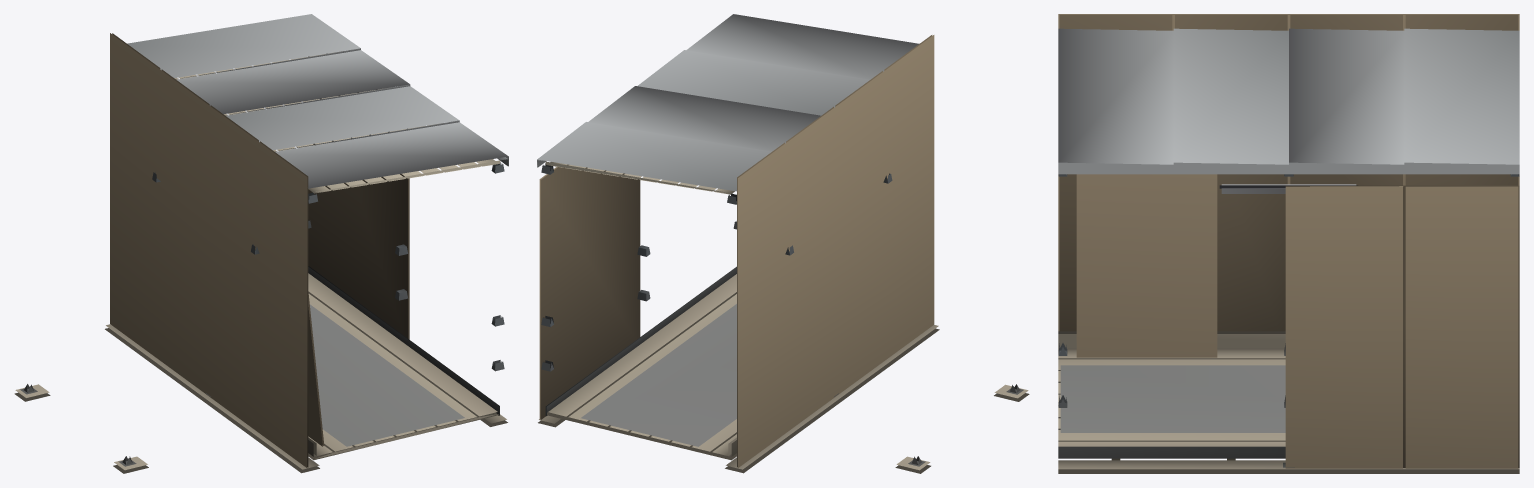
Rendered from tunnel.lod.glb.
3 renders of one model, left to right at view 1: azimuth 30°, elevation 25°; view 2: azimuth 150°, elevation 25°; view 3: azimuth 270°, elevation 25°, orthographic. The views are drawn at different scales.
Parts seen in each view (by area): view 1: tunnel.001; view 2: tunnel.001; view 3: tunnel.001.
Part boxes in pixels (box(x1,y1,x2,y2)): tunnel.001: box(14, 14, 508, 473); tunnel.001: box(537, 14, 1029, 473); tunnel.001: box(1058, 14, 1519, 473).
Size of the model in its own units: 4 by 3.3 by 4.
